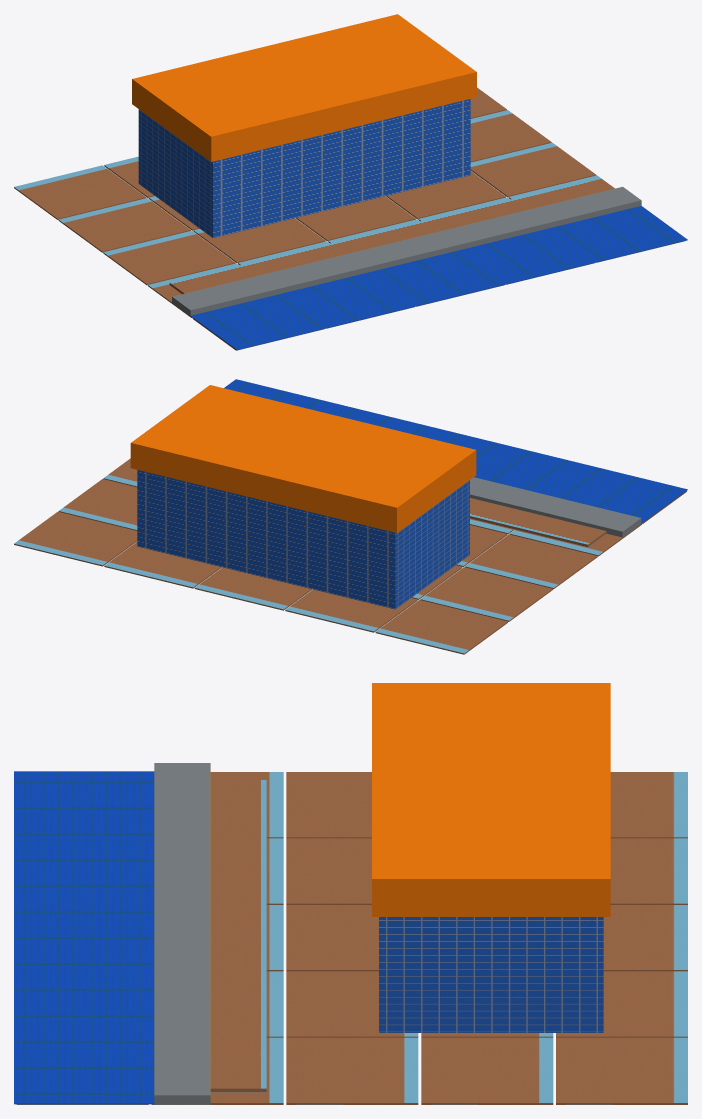
3 views of the same model, one above another, from view 1: azimuth 30°, elevation 25°; view 2: azimuth 150°, elevation 25°; view 3: azimuth 270°, elevation 25° (orthographic). The views are drawn at different scales.
Parts seen in each view (by area): view 1: 28185_B48_Solchan_Caisson24_Observatory; view 2: 28185_B48_Solchan_Caisson24_Observatory; view 3: 28185_B48_Solchan_Caisson24_Observatory.
Part boxes in pixels (<box>): 28185_B48_Solchan_Caisson24_Observatory: <box>14,14,687,350</box>; 28185_B48_Solchan_Caisson24_Observatory: <box>14,379,687,654</box>; 28185_B48_Solchan_Caisson24_Observatory: <box>14,683,687,1104</box>.
Size of the model in its own units: 56 by 12.5 by 48.
1 material, 1 textured.
